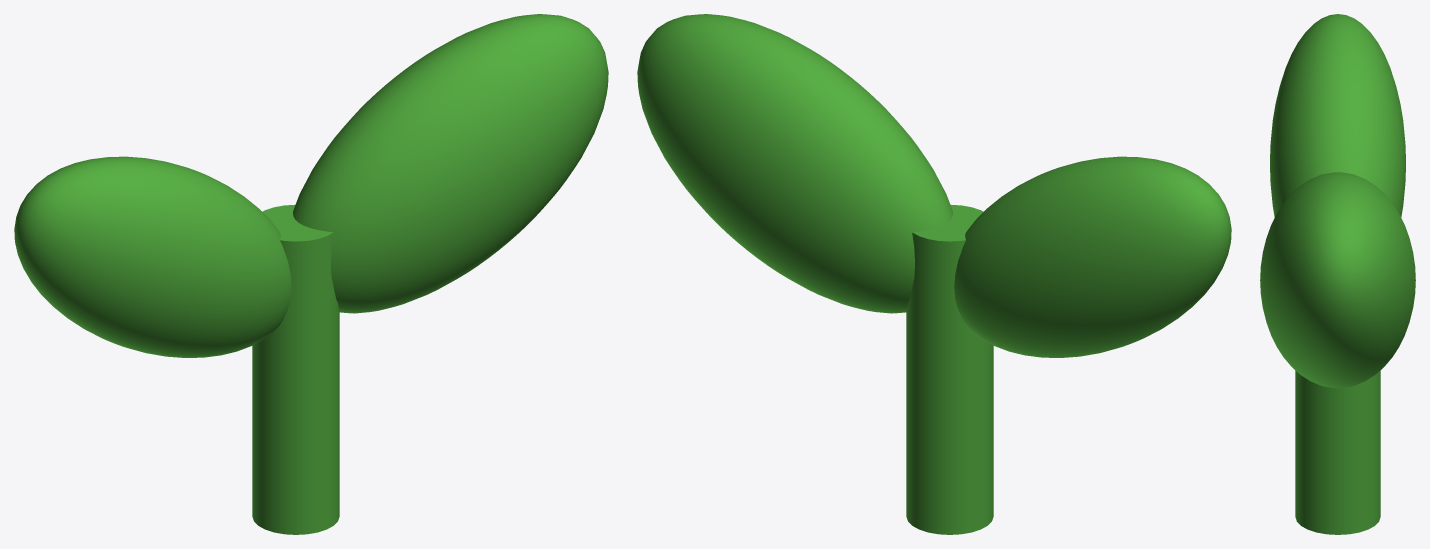
Rendered from sprout_pin.fbx.
The picture shows the model from 3 angles, left to right: view 1: azimuth 30°, elevation 25°; view 2: azimuth 150°, elevation 25°; view 3: azimuth 270°, elevation 25°; orthographic projection. The views are drawn at different scales.
Parts seen in each view (by area): view 1: Sphere009, Sphere008, Cylinder004; view 2: Sphere009, Sphere008, Cylinder004; view 3: Sphere009, Sphere008, Cylinder004.
Boxes of the visible parts, x1,y1,x2,y2 form: Sphere009: [293, 14, 608, 313]; Sphere008: [14, 156, 291, 357]; Cylinder004: [252, 204, 339, 534]; Sphere009: [637, 14, 952, 313]; Sphere008: [954, 156, 1231, 357]; Cylinder004: [906, 204, 993, 534]; Sphere009: [1260, 172, 1415, 388]; Sphere008: [1270, 14, 1405, 216]; Cylinder004: [1295, 370, 1380, 534].
Size of the model in its own units: 5.42 by 3.9 by 1.28.
